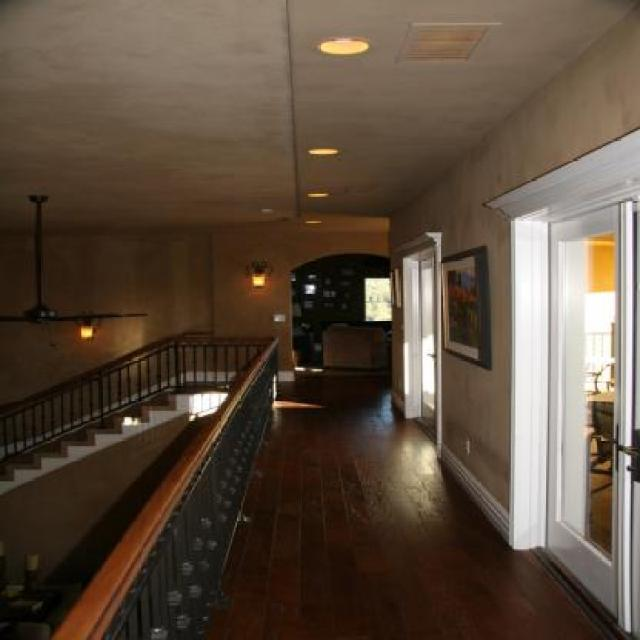stair: (0, 379, 215, 498)
